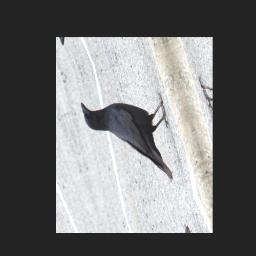Crow: (79, 73, 186, 204)
